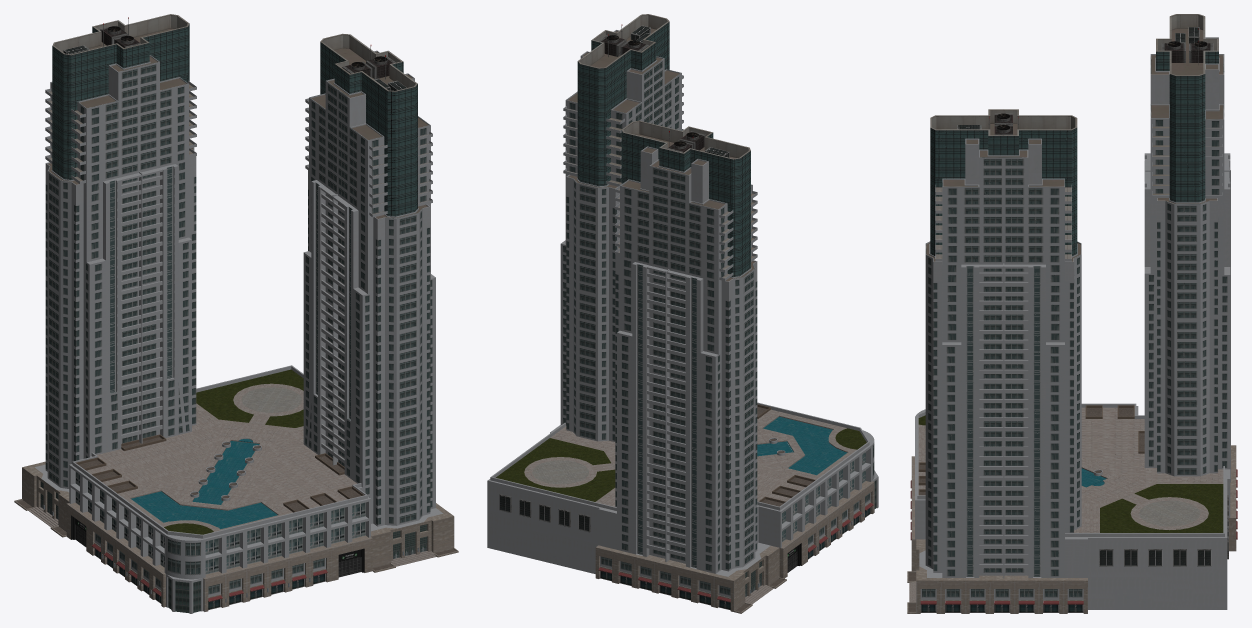
File: the_vizcayne_miami.glb
3 views of the same model, side by side, from view 1: azimuth 30°, elevation 25°; view 2: azimuth 150°, elevation 25°; view 3: azimuth 270°, elevation 25° (orthographic). The views are drawn at different scales.
Visible parts, largest first — view 1: hivizcayne; view 2: hivizcayne; view 3: hivizcayne.
Boxes of the visible parts, box(x1,y1,x2,y2) form: hivizcayne: box(14, 14, 458, 613); hivizcayne: box(487, 14, 878, 613); hivizcayne: box(907, 14, 1237, 613).
Bounding box in the file's own units: 9497 × 15253 × 9497.
Materials: 1 (1 with a texture image).
